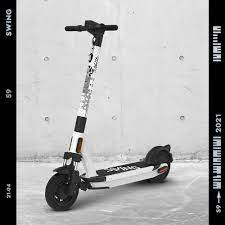kick_board: (43, 18, 172, 208)
kick_body: (93, 161, 146, 185)
kick_handler: (65, 21, 118, 45)
kick_neck: (69, 48, 100, 152)
kick_wheel: (47, 174, 78, 209), (148, 146, 171, 181)
